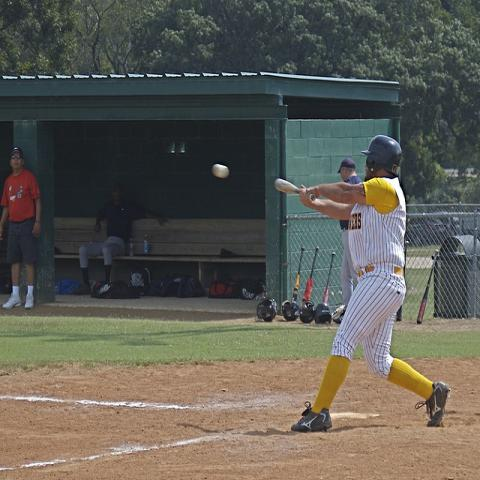car: (404, 216, 452, 248)
